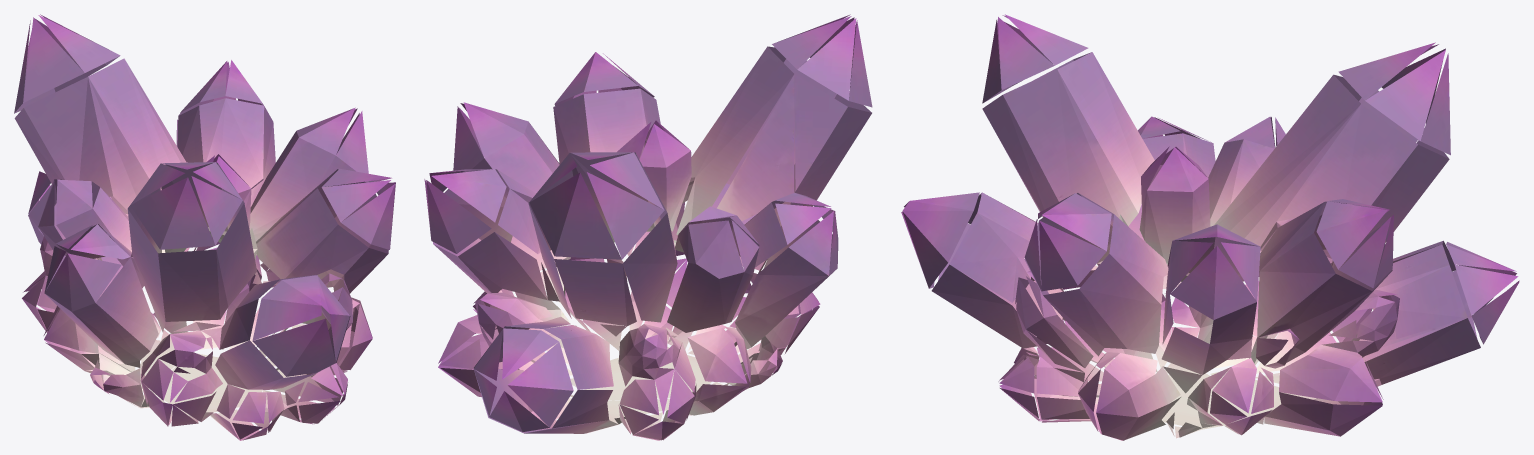
Rendered from crystal_formation_LOD1.glb.
The picture shows the model from 3 angles, left to right: view 1: azimuth 30°, elevation 25°; view 2: azimuth 150°, elevation 25°; view 3: azimuth 270°, elevation 25°; orthographic projection. The views are drawn at different scales.
Visible parts, largest first — view 1: crystal_formation_LOD1; view 2: crystal_formation_LOD1; view 3: crystal_formation_LOD1.
Part boxes in pixels (x1,y1,x2,y2): crystal_formation_LOD1: [14, 14, 395, 440]; crystal_formation_LOD1: [424, 14, 872, 440]; crystal_formation_LOD1: [901, 14, 1519, 440].
Bounding box in the file's own units: 0.6751 × 0.589 × 1.
1 material, 1 textured.
